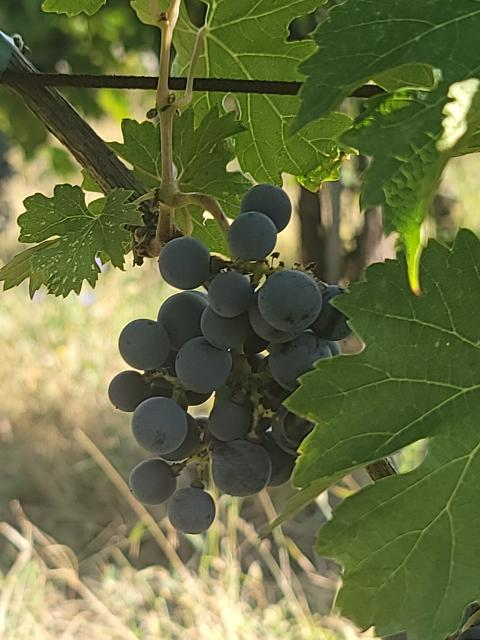grapes: (109, 184, 351, 534)
